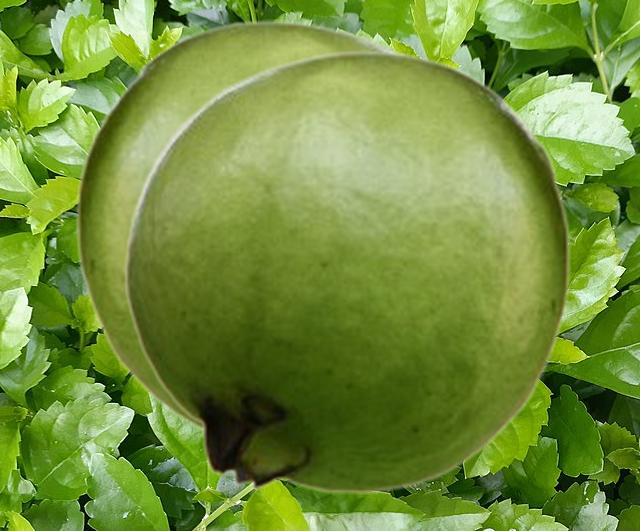guava: (123, 49, 571, 493), (74, 19, 408, 433)
